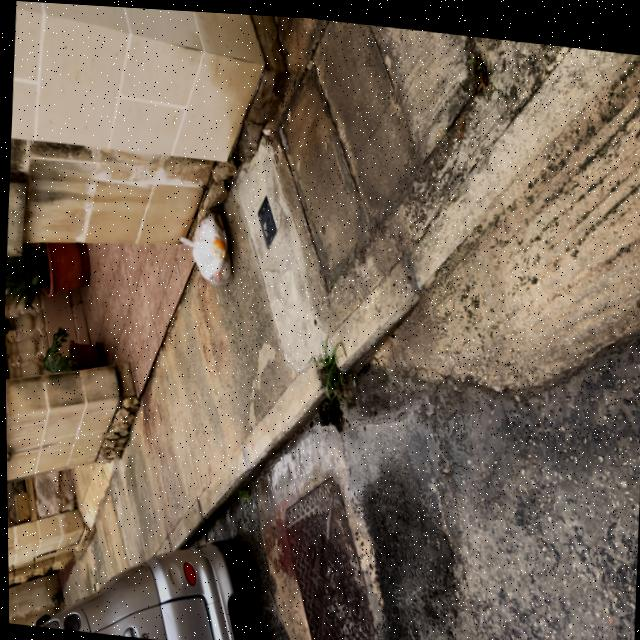Organic Waste -White Bag-: (178, 206, 236, 284)
